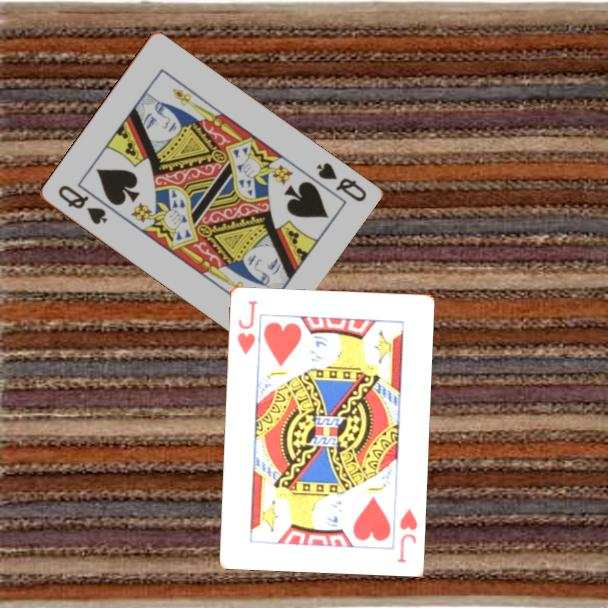h11: (233, 297, 260, 357), (394, 505, 420, 565)
s12: (54, 181, 110, 228), (312, 159, 369, 205)
